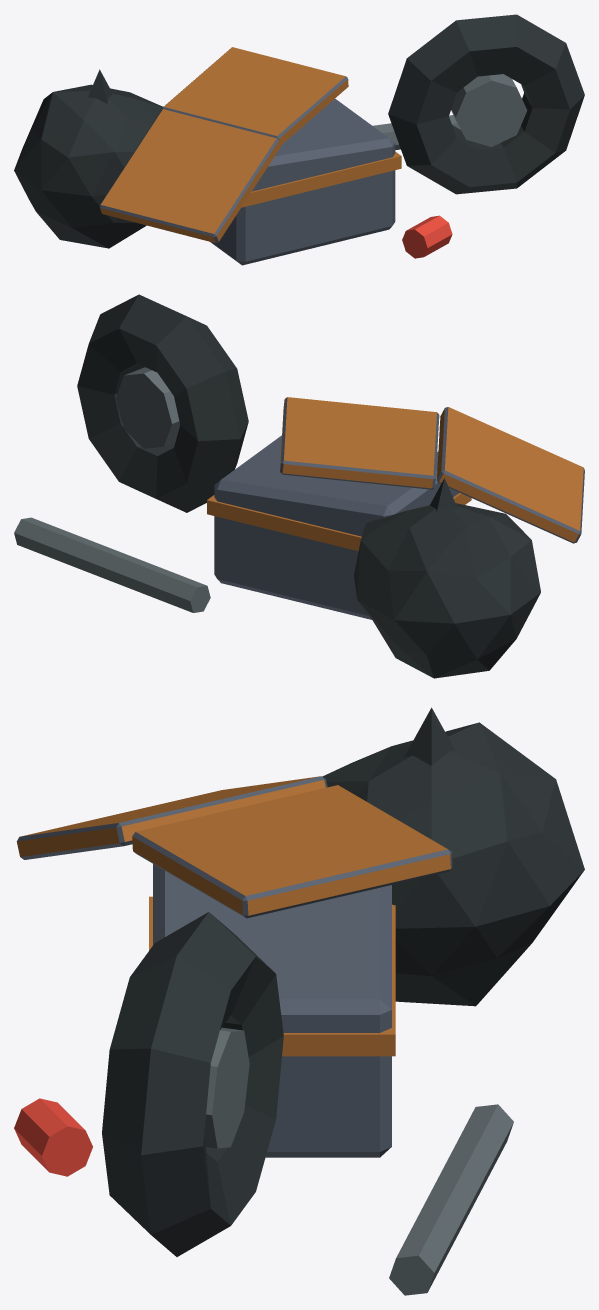
Rendered from junk.glb.
3 views of the same model, one above another, from view 1: azimuth 30°, elevation 25°; view 2: azimuth 150°, elevation 25°; view 3: azimuth 270°, elevation 25° (orthographic). The views are drawn at different scales.
Visible parts, largest first — view 1: junk-m; view 2: junk-m; view 3: junk-m.
Boxes of the visible parts, bbox=[...] form: junk-m: bbox=[14, 14, 584, 265]; junk-m: bbox=[14, 294, 584, 678]; junk-m: bbox=[14, 707, 584, 1295].
Size of the model in its own units: 2.38 by 0.8965 by 1.43.
